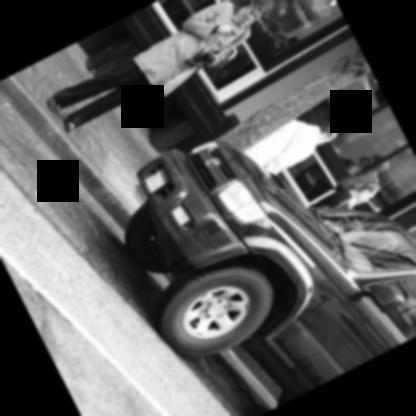handbag: (212, 26, 249, 53), (281, 123, 307, 152)
